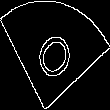O_SW: (30, 23, 80, 87)
